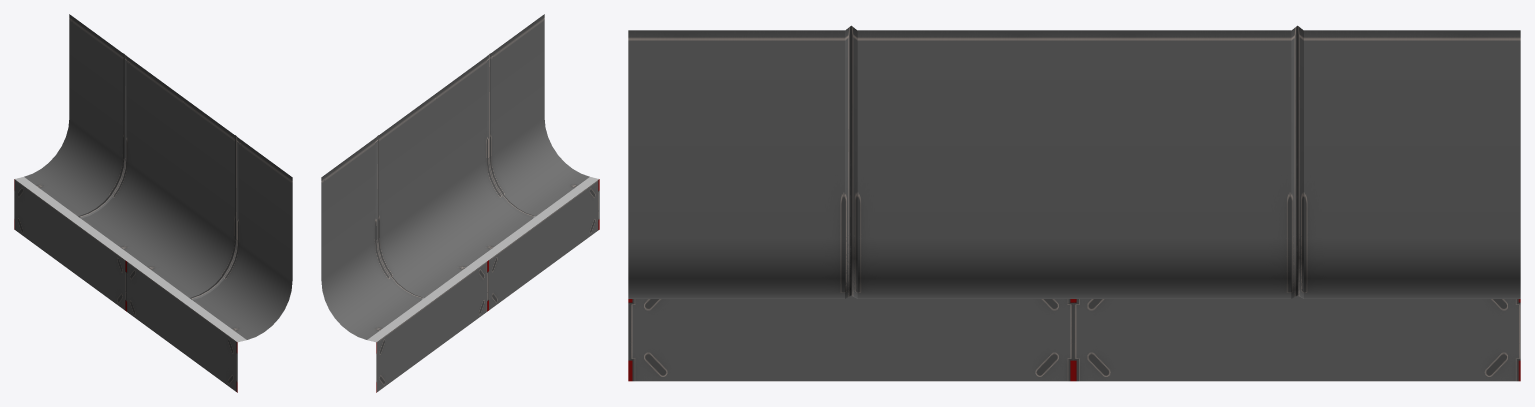
The model's file is top_plastic_straight.glb.
The picture shows the model from 3 angles, left to right: view 1: azimuth 30°, elevation 25°; view 2: azimuth 150°, elevation 25°; view 3: azimuth 270°, elevation 25°; orthographic projection. The views are drawn at different scales.
Visible parts, largest first — view 1: TopPlastic_Straight; view 2: TopPlastic_Straight; view 3: TopPlastic_Straight.
Part boxes in pixels (left/top/right/bottom): TopPlastic_Straight: left=14, top=14, right=292, bottom=392; TopPlastic_Straight: left=321, top=14, right=599, bottom=392; TopPlastic_Straight: left=628, top=25, right=1520, bottom=381.
Size of the model in its own units: 0.5679 by 2.02 by 4.
Materials: 3 (3 with a texture image).
